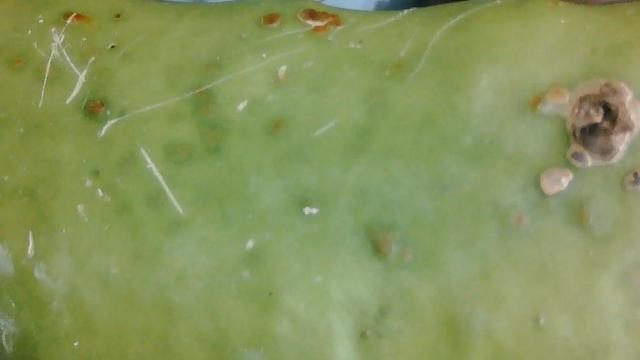stemcanker: (296, 1, 344, 35), (534, 164, 578, 195), (49, 8, 92, 38), (70, 94, 109, 125), (273, 61, 292, 86), (262, 9, 285, 29)
